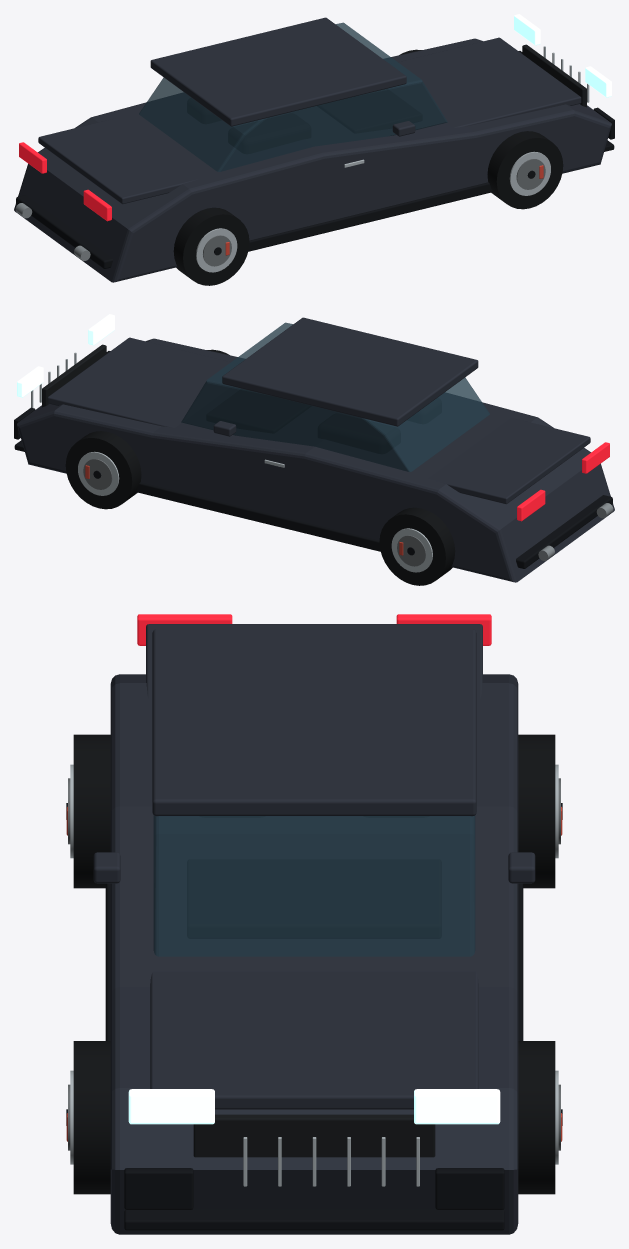
File: rr_black_badge_spectre.glb
The picture shows the model from 3 angles, top to bottom: view 1: azimuth 30°, elevation 25°; view 2: azimuth 150°, elevation 25°; view 3: azimuth 270°, elevation 25°; orthographic projection. The views are drawn at different scales.
Parts seen in each view (by area): view 1: sculpted_body, roof, glasshouse, hood_center, rear_deck, rear_right_wheel_tire, front_right_wheel_tire, side_skirt_1, dashboard, seat_1, rear_diffuser, front_grille (+9 smaller); view 2: sculpted_body, roof, glasshouse, hood_center, rear_deck, rear_left_wheel_tire, front_left_wheel_tire, side_skirt_-1, dashboard, seat_-1, rear_diffuser, front_grille (+9 smaller); view 3: sculpted_body, roof, glasshouse, hood_center, dashboard, front_grille, front_splitter, front_left_wheel_tire, front_right_wheel_tire, rear_left_wheel_tire, rear_right_wheel_tire, headlight_left (+10 smaller).
Part boxes in pixels (x1,y1,x2,y2): sculpted_body: (14, 38, 611, 282); roof: (150, 17, 406, 126); glasshouse: (139, 22, 447, 171); hood_center: (391, 37, 581, 127); rear_deck: (38, 118, 200, 204); rear_right_wheel_tire: (173, 207, 249, 285); front_right_wheel_tire: (487, 131, 563, 209); side_skirt_1: (248, 182, 492, 251); dashboard: (318, 89, 421, 132); seat_1: (228, 114, 310, 153); rear_diffuser: (16, 195, 112, 268); front_grille: (522, 44, 586, 107); sculpted_body: (17, 338, 614, 582); roof: (222, 317, 478, 426); glasshouse: (181, 322, 489, 471); hood_center: (47, 337, 237, 427); rear_deck: (428, 418, 590, 504); rear_left_wheel_tire: (379, 507, 455, 585); front_left_wheel_tire: (65, 431, 141, 509); side_skirt_-1: (136, 482, 380, 551); dashboard: (207, 389, 310, 432); seat_-1: (318, 414, 400, 453); rear_diffuser: (516, 495, 612, 568); front_grille: (42, 344, 106, 407); sculpted_body: (110, 674, 518, 1234); roof: (152, 629, 476, 816); glasshouse: (153, 815, 475, 956); hood_center: (150, 971, 478, 1109); dashboard: (187, 860, 441, 938); front_grille: (193, 1114, 435, 1157); front_splitter: (124, 1209, 504, 1230); front_left_wheel_tire: (518, 1041, 555, 1194); front_right_wheel_tire: (73, 1041, 110, 1194); rear_left_wheel_tire: (518, 734, 555, 888); rear_right_wheel_tire: (73, 734, 110, 888); headlight_left: (414, 1089, 500, 1124).
Bounding box in the file's own units: 5.82 × 1.52 × 2.39.
